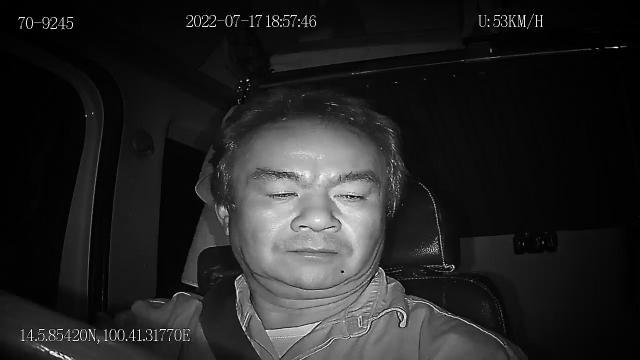SafeDriving: (324, 178, 378, 208), (252, 176, 306, 206)
Seatbelt: (198, 272, 264, 360)
